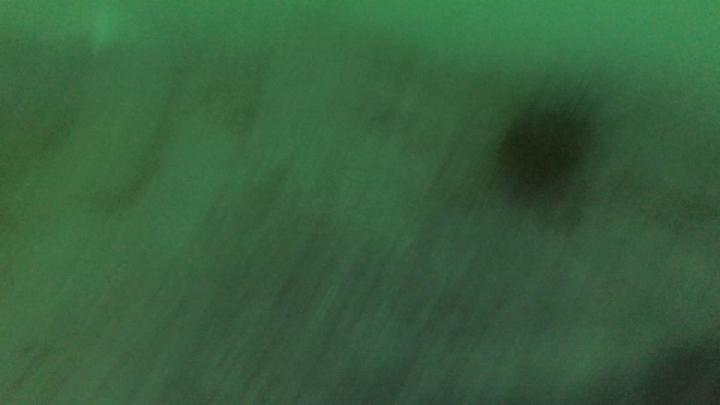echinus: (500, 98, 591, 215)
